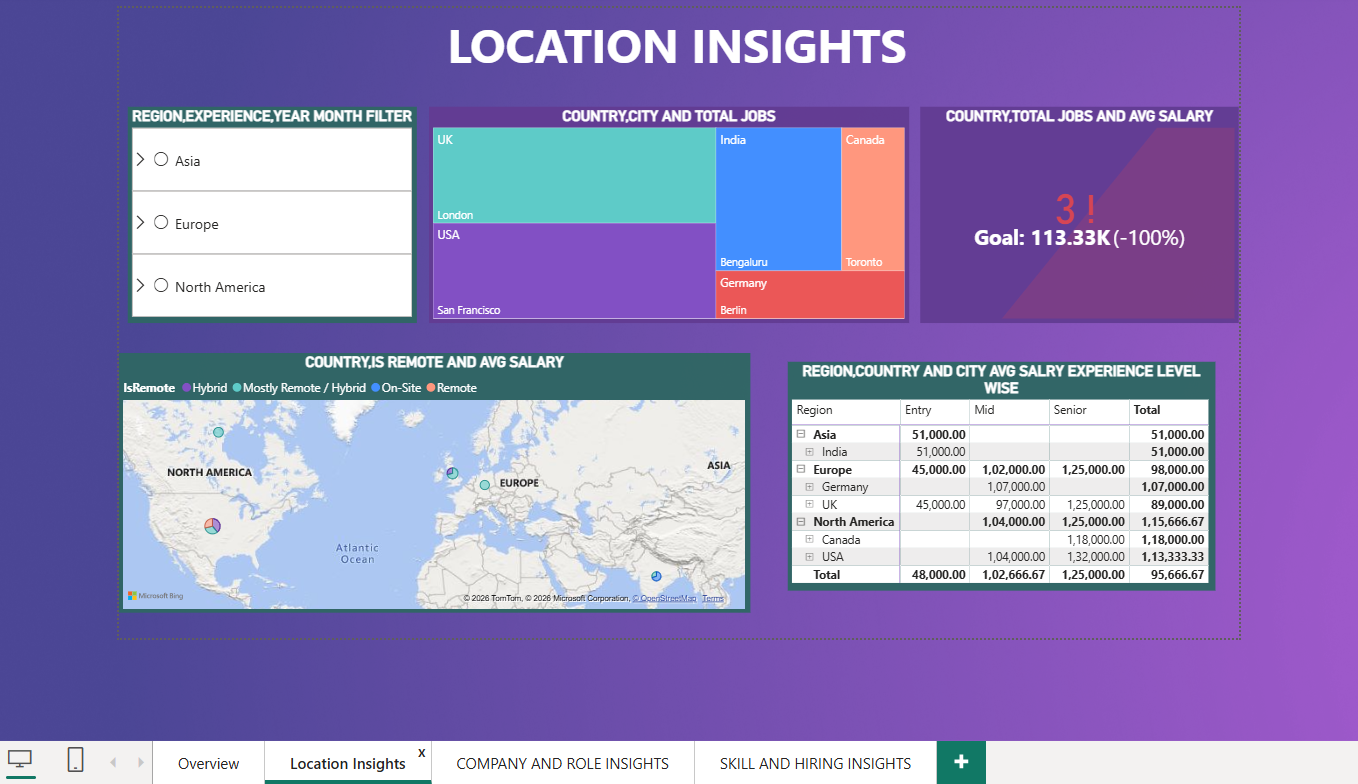

What the dashboard file says about the page in this screenshot:
{"tool":"powerbi","page":{"name":"Location Insights","canvas":[1280,720],"ordinal":1},"visuals":[{"type":"textbox","box":[10,0,1270,102.5],"z":0},{"type":"listSlicer","title":"REGION,EXPERIENCE,YEAR MONTH FILTER","fields":{"Values":["Dim_Locations.Region","Fact_Jobs.Experience_Level","Dim_Date.YearMonth"]},"box":[10,112.5,330,247.5],"z":1000},{"type":"map","title":"COUNTRY,IS REMOTE AND AVG SALARY","fields":{"Category":["Dim_Locations.Country"],"Size":["Fact_Jobs.AvgSalaryByCountry"],"Series":["Fact_Jobs.IsRemote"]},"box":[0,394.3,721.4,297.1],"z":2000},{"type":"kpi","title":"COUNTRY,TOTAL JOBS AND AVG SALARY","fields":{"TrendLine":["Dim_Locations.Country"],"Indicator":["Fact_Jobs.TotalJobs"],"Goal":["Fact_Jobs.AvgSalaryByCountry"]},"box":[915.7,112.9,364.3,247.1],"z":3000},{"type":"treemap","title":"COUNTRY,CITY AND TOTAL JOBS","fields":{"Group":["Dim_Locations.Country"],"Values":["Fact_Jobs.TotalJobs"],"Details":["Dim_Locations.City"]},"box":[354.3,112.9,548.6,247.1],"z":4000},{"type":"pivotTable","title":"REGION,COUNTRY AND CITY AVG SALRY EXPERIENCE LEVEL WISE","fields":{"Rows":["Dim_Locations.Region","Dim_Locations.Country","Dim_Locations.City"],"Values":["Fact_Jobs.AvgSalaryByCountry"],"Columns":["Fact_Jobs.Experience_Level"]},"box":[764.3,404.3,488.6,261.4],"z":5000}]}

Visuals, with their boxes on the page's 1280x720 design canvas (x1, y1, x2, y2). These are canvas units, not pixel positions in the 1358x784 screenshot, which may show the page scaled, cropped or inside an application window:
textbox: {"left": 10, "top": 0, "right": 1280, "bottom": 102}
"REGION,EXPERIENCE,YEAR MONTH FILTER" listSlicer: {"left": 10, "top": 112, "right": 340, "bottom": 360}
"COUNTRY,IS REMOTE AND AVG SALARY" map: {"left": 0, "top": 394, "right": 721, "bottom": 691}
"COUNTRY,TOTAL JOBS AND AVG SALARY" kpi: {"left": 916, "top": 113, "right": 1280, "bottom": 360}
"COUNTRY,CITY AND TOTAL JOBS" treemap: {"left": 354, "top": 113, "right": 903, "bottom": 360}
"REGION,COUNTRY AND CITY AVG SALRY EXPERIENCE LEVEL WISE" pivotTable: {"left": 764, "top": 404, "right": 1253, "bottom": 666}
